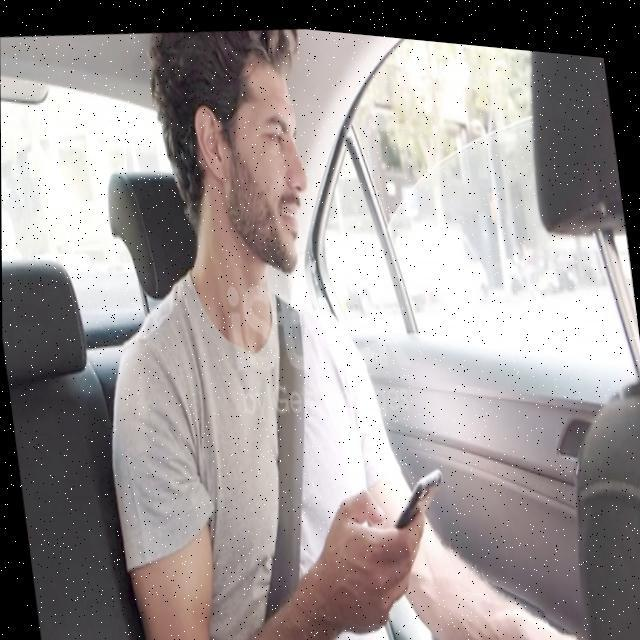PhoneCall: (373, 448, 451, 534)
